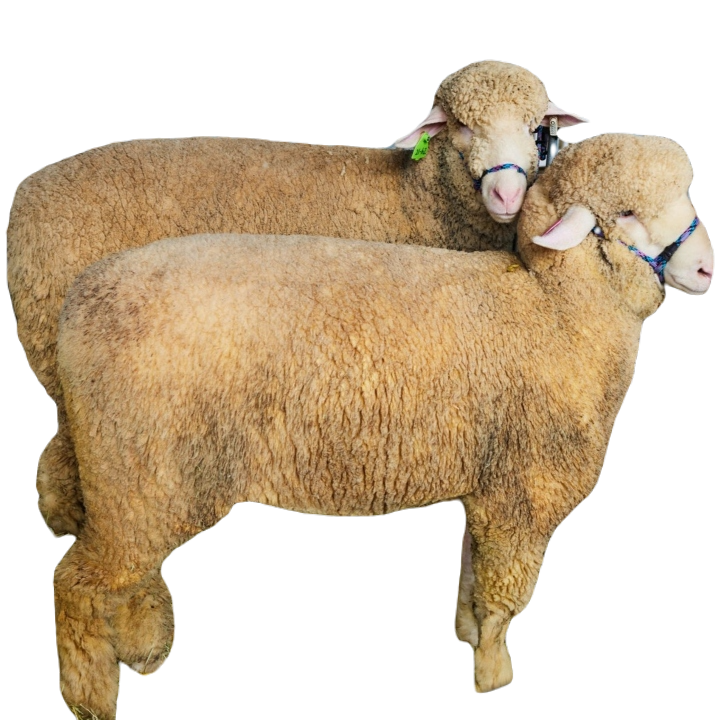Sheep: (46, 133, 719, 719)
